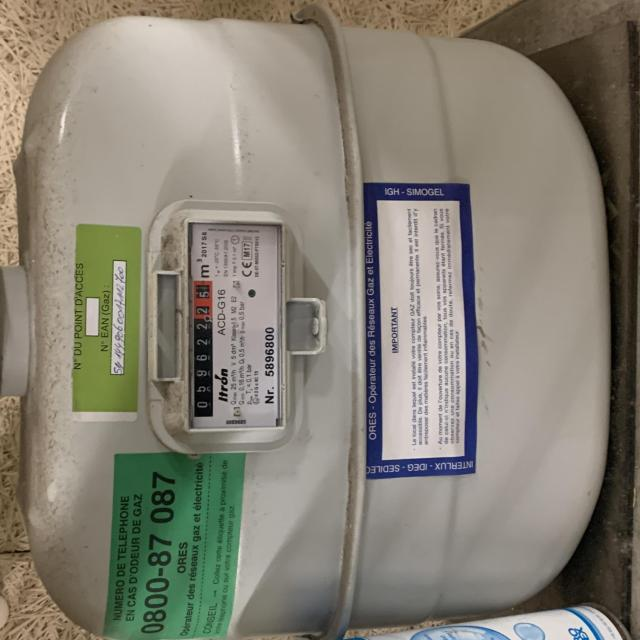gaz_meter: (189, 223, 279, 428)
indication: (190, 278, 213, 419)
